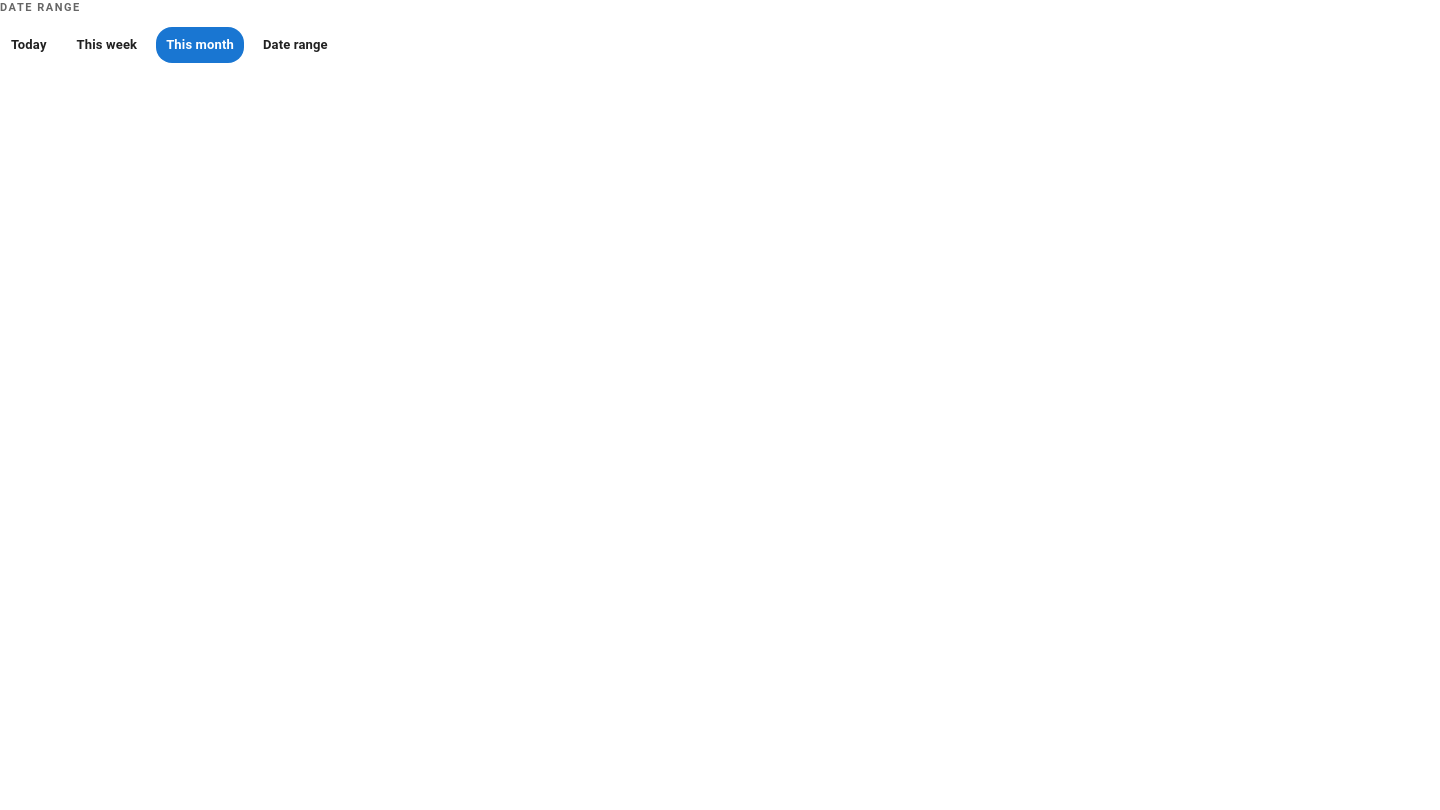
DateFilter › shows validation error for invalid custom range
Click the button "Date range". click: [295, 44]
box: [252,26,339,62]
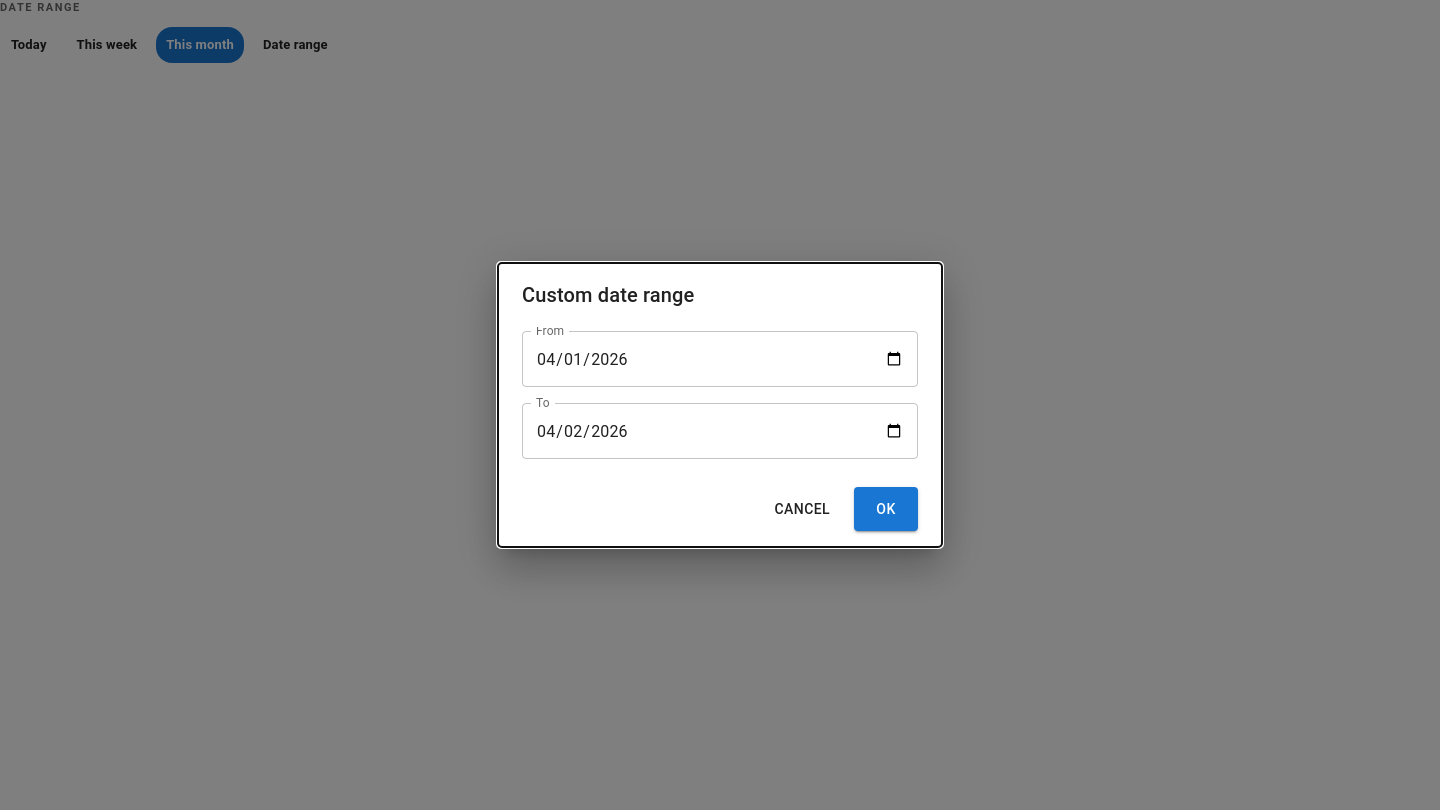
Type "2026-04-10" into the date field labelled "From". click: [720, 359]
box: [522,331,918,387]
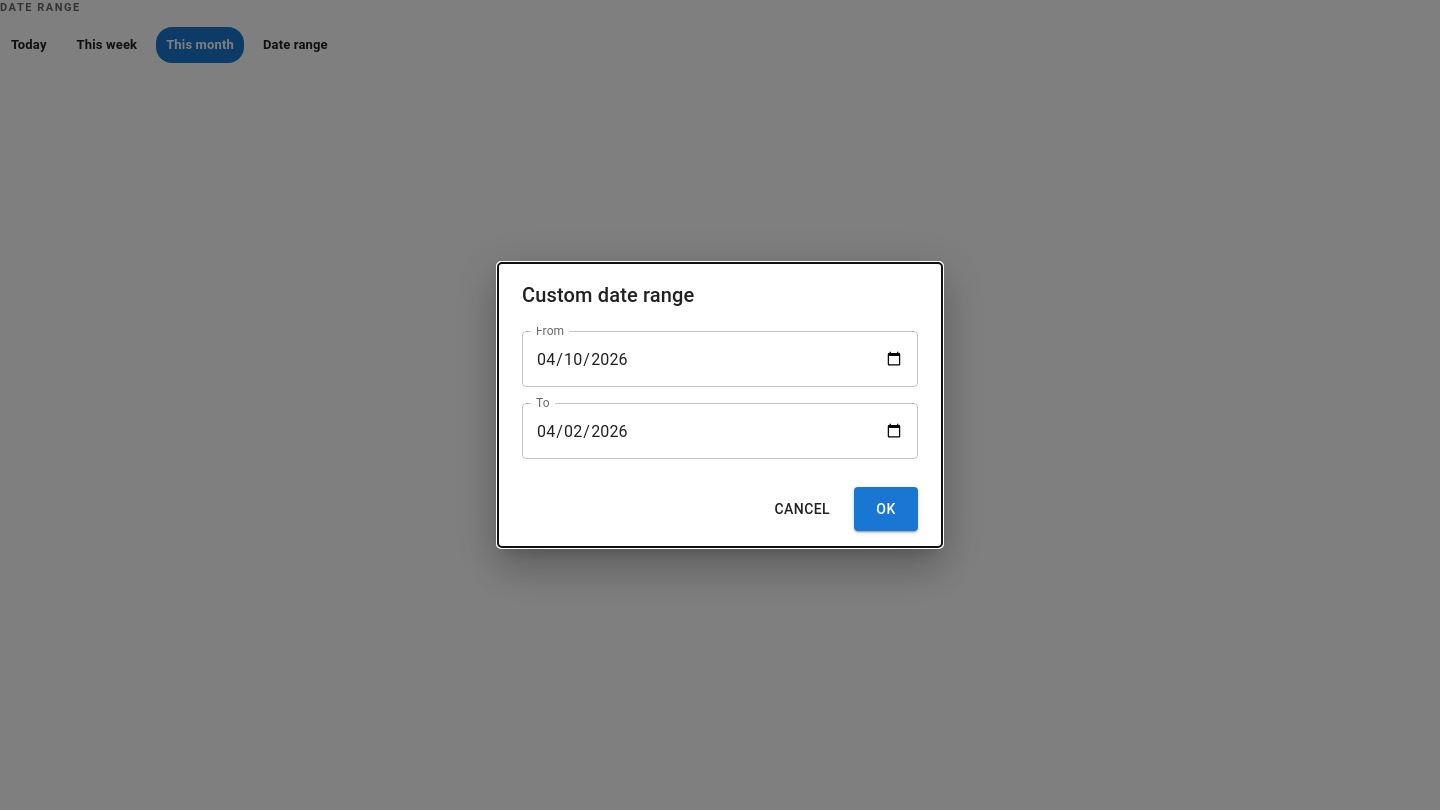
Type "2026-04-01" into the date field labelled "To". click: [720, 431]
box: [522,403,918,459]
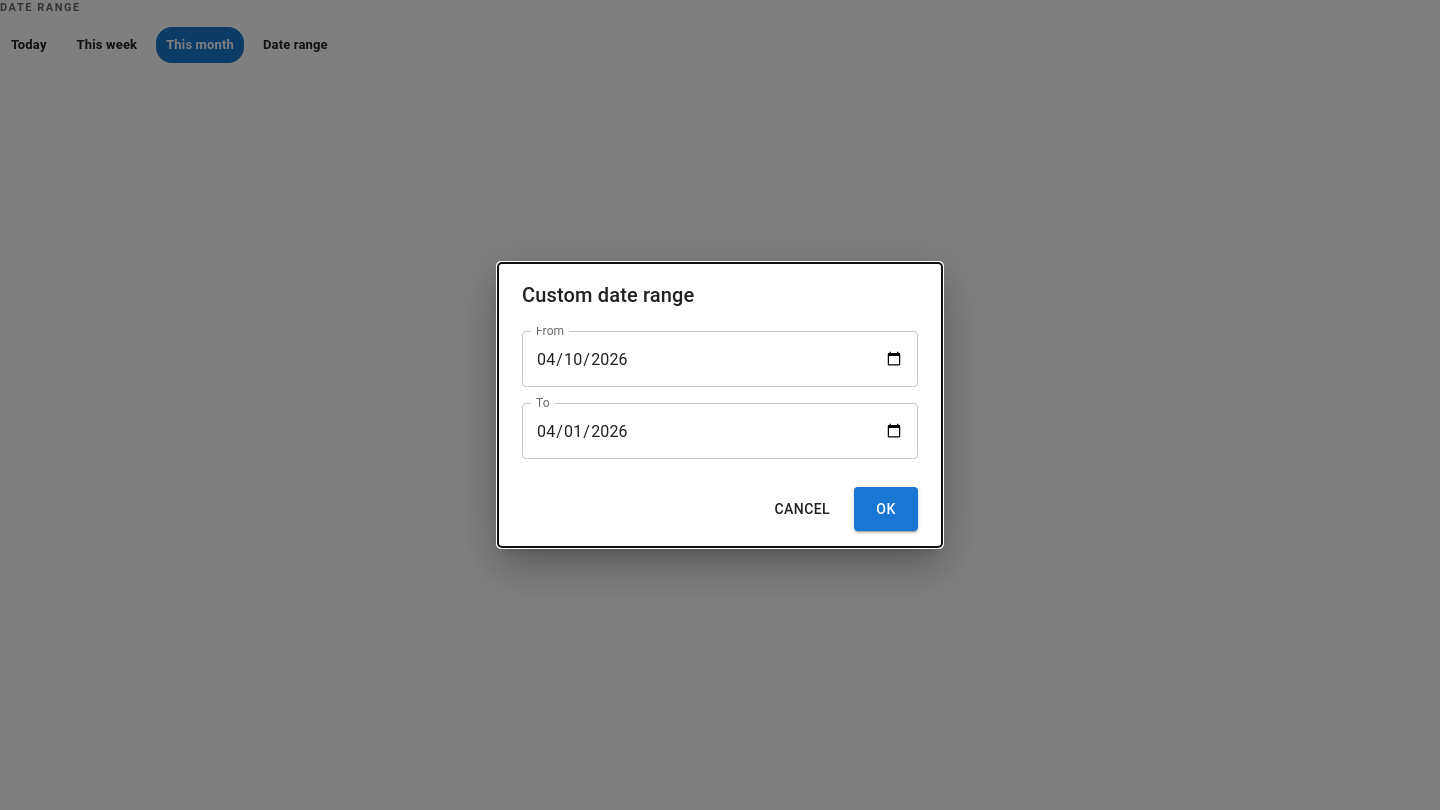
Click the button "OK". click: [886, 509]
box: [854,487,918,531]
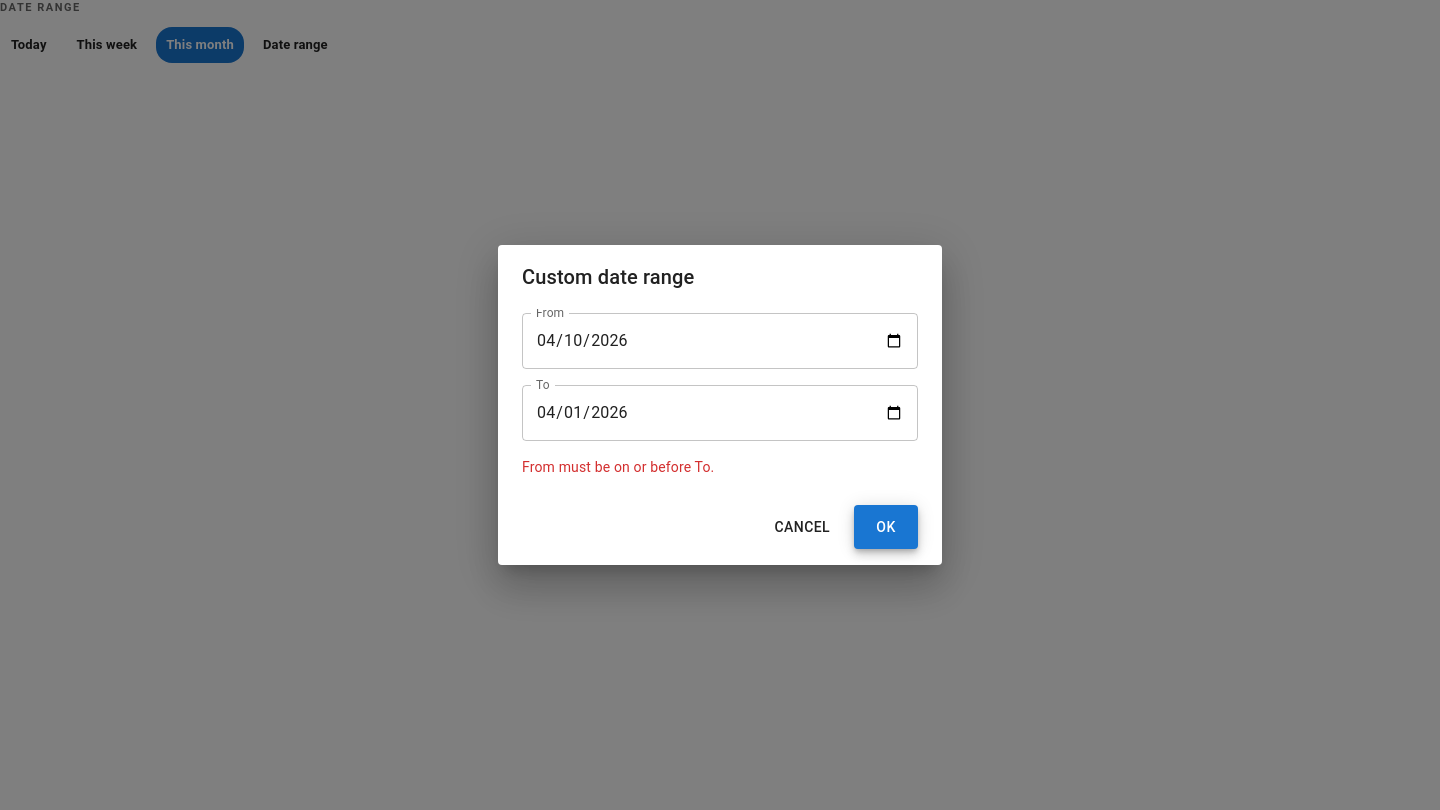
Expected: the text "From must be on or before To." is shown, [522,459,714,475]
